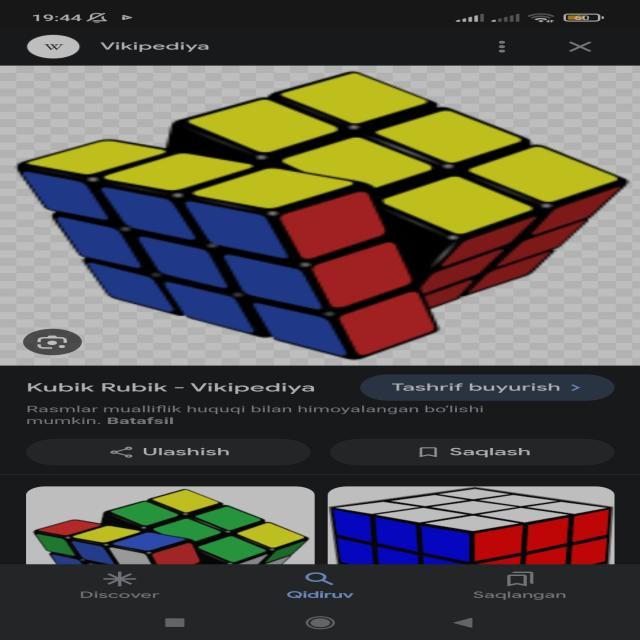Rub: (10, 68, 636, 360), (34, 485, 312, 563), (328, 488, 610, 561)
